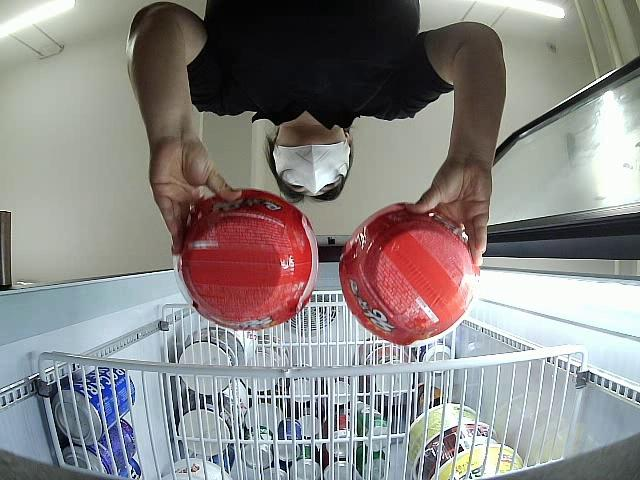00_hand: (147, 138, 243, 255), (406, 161, 490, 275)
10_wangTtukkeong: (175, 188, 319, 333), (341, 204, 474, 345)
